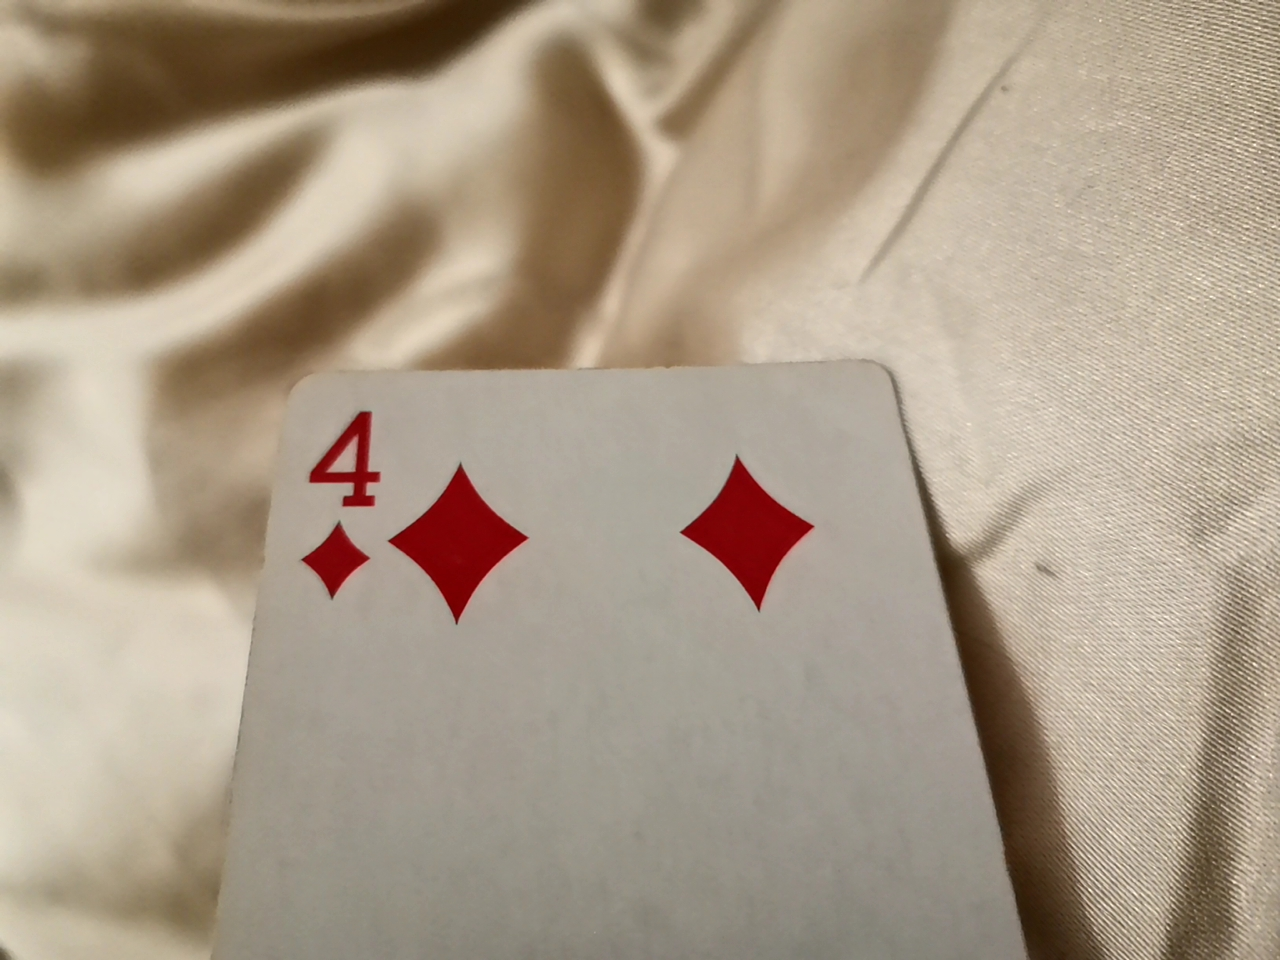fk 4: (204, 274, 994, 957)
